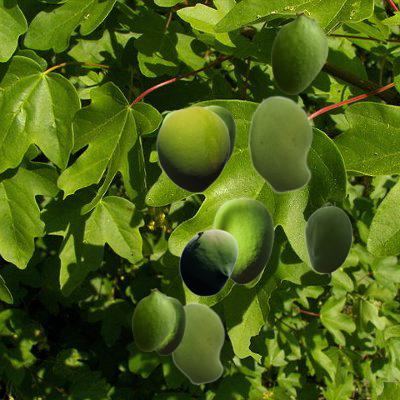green_mango: (156, 106, 229, 192), (248, 95, 312, 193), (212, 197, 273, 283), (271, 11, 327, 93), (171, 302, 224, 384), (179, 229, 237, 295), (304, 202, 351, 276), (132, 288, 174, 350), (204, 105, 235, 163), (155, 296, 185, 354), (161, 110, 175, 123)
